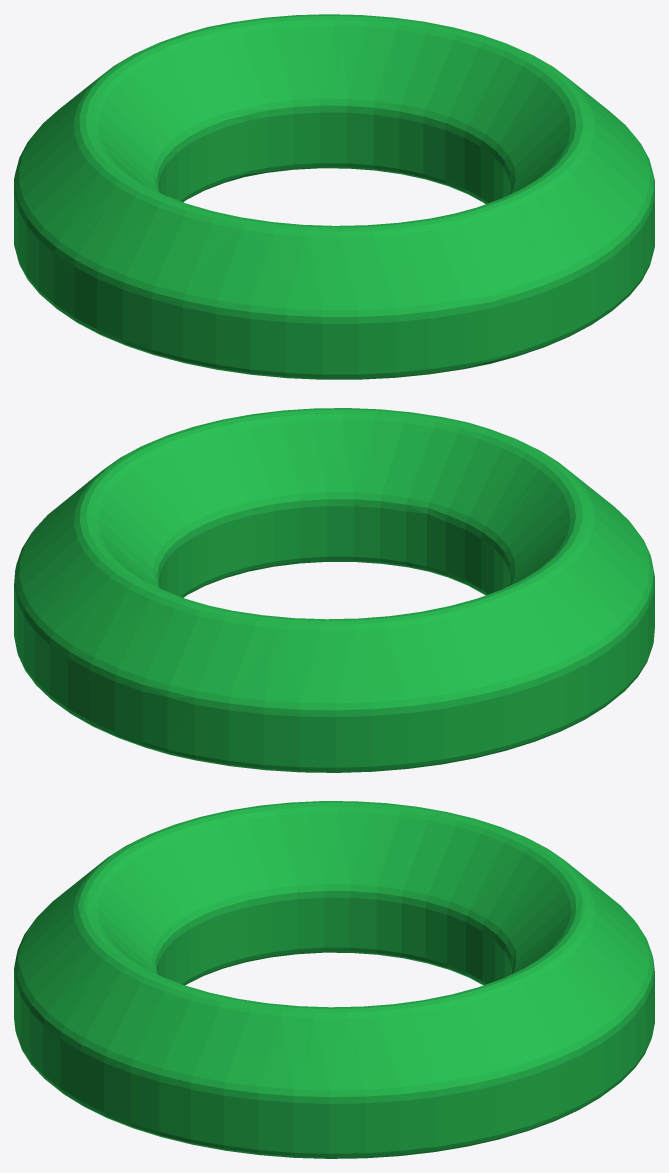
The picture shows the model from 3 angles, top to bottom: view 1: azimuth 30°, elevation 25°; view 2: azimuth 150°, elevation 25°; view 3: azimuth 270°, elevation 25°; orthographic projection.
Bounding box in the file's own units: 0.0197 × 0.00423 × 0.02.
